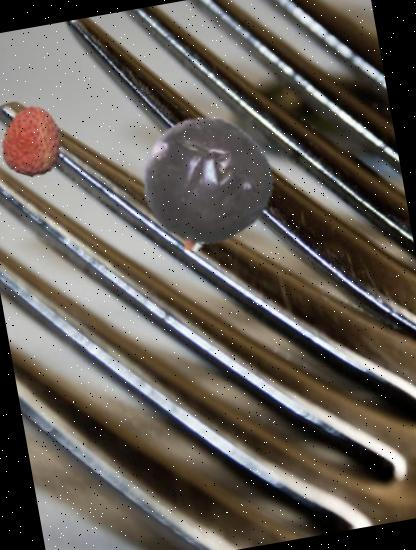Lychee: (0, 100, 74, 182)
Passion: (128, 105, 286, 263)
